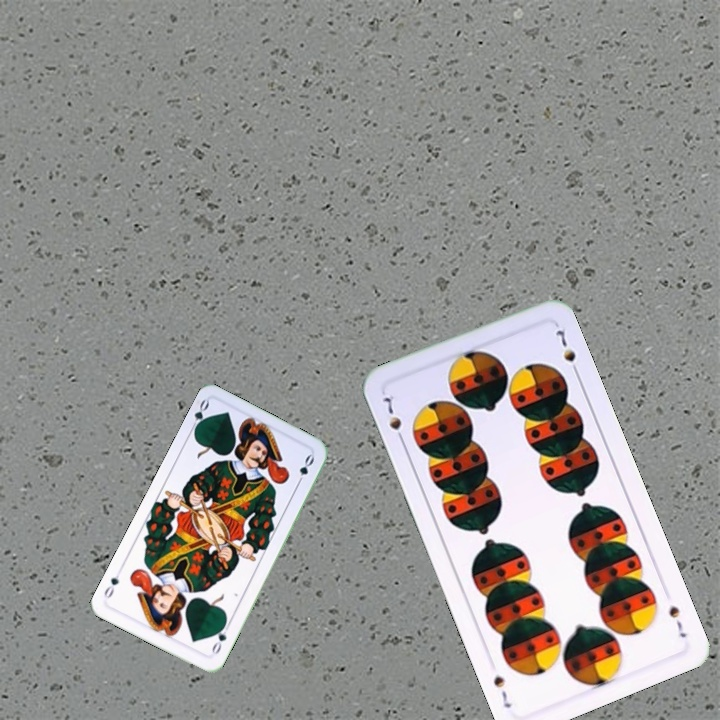GO: (186, 396, 212, 436), (206, 619, 232, 657)
S7: (380, 391, 407, 447), (665, 601, 689, 641)
